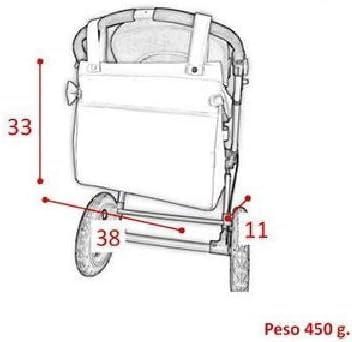450: (304, 322, 333, 335)
Peso: (265, 323, 299, 335)
g.: (337, 325, 350, 339)
